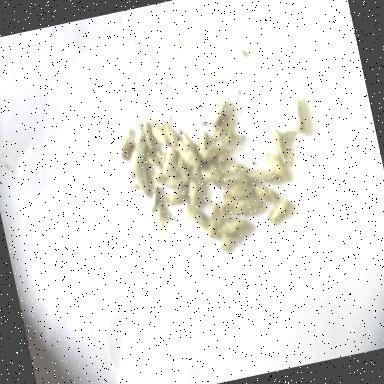pbw: (202, 204, 229, 237), (174, 137, 200, 170), (125, 144, 149, 178), (271, 129, 291, 168), (116, 128, 138, 160), (264, 199, 292, 224), (289, 96, 308, 132), (188, 204, 210, 235), (159, 148, 181, 178), (232, 194, 262, 216), (206, 98, 230, 125), (248, 164, 277, 186), (265, 150, 286, 180), (210, 128, 234, 152), (135, 166, 152, 196), (126, 128, 147, 152), (140, 122, 156, 152), (228, 181, 252, 201), (146, 183, 162, 212), (200, 143, 224, 162), (162, 188, 187, 206), (193, 129, 210, 154), (151, 124, 170, 146), (219, 233, 241, 251), (222, 217, 248, 232), (174, 158, 190, 182), (185, 180, 201, 204), (163, 175, 189, 189), (163, 122, 177, 147), (146, 150, 160, 172), (154, 197, 166, 222)
